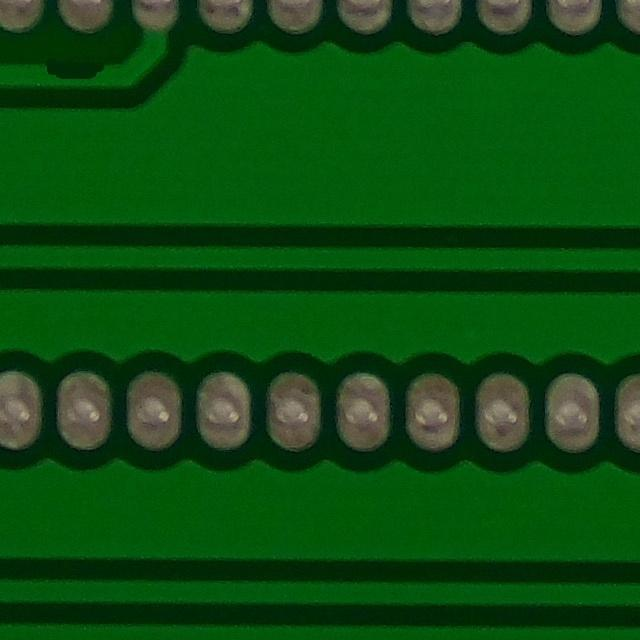mouse_bite: (29, 44, 110, 94)
